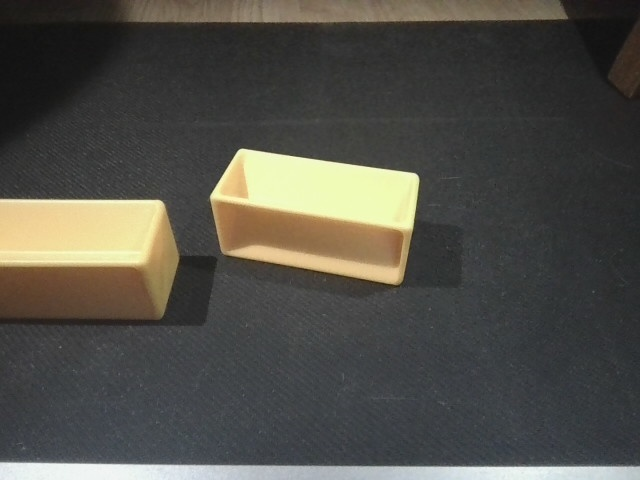YellowSample: (206, 145, 424, 290), (1, 194, 182, 325)
